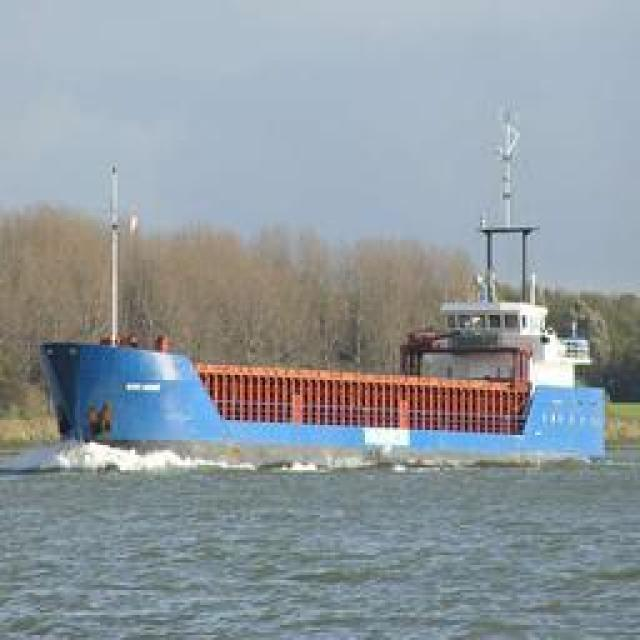CIV_Ship: (78, 338, 560, 454)
